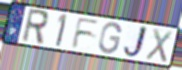1: (55, 14, 69, 49)
F: (70, 17, 101, 50)
G: (97, 21, 123, 56)
J: (122, 24, 150, 60)
R: (20, 8, 50, 47)
X: (144, 27, 174, 64)
